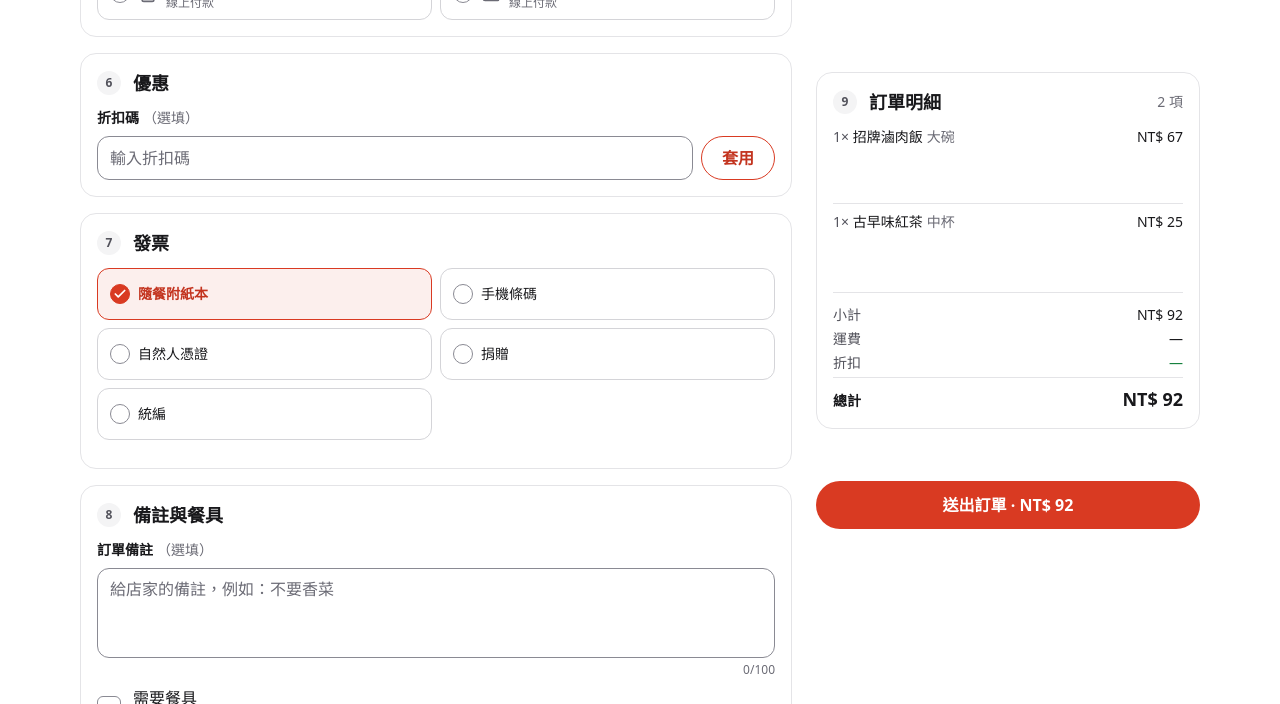
Scenario: 表單驗證（03 §8.3） › 發票統編檢查碼（UAT-12）
(page scrolled)
Click the radio button labelled "統編": (120, 414) [97,388,432,440]
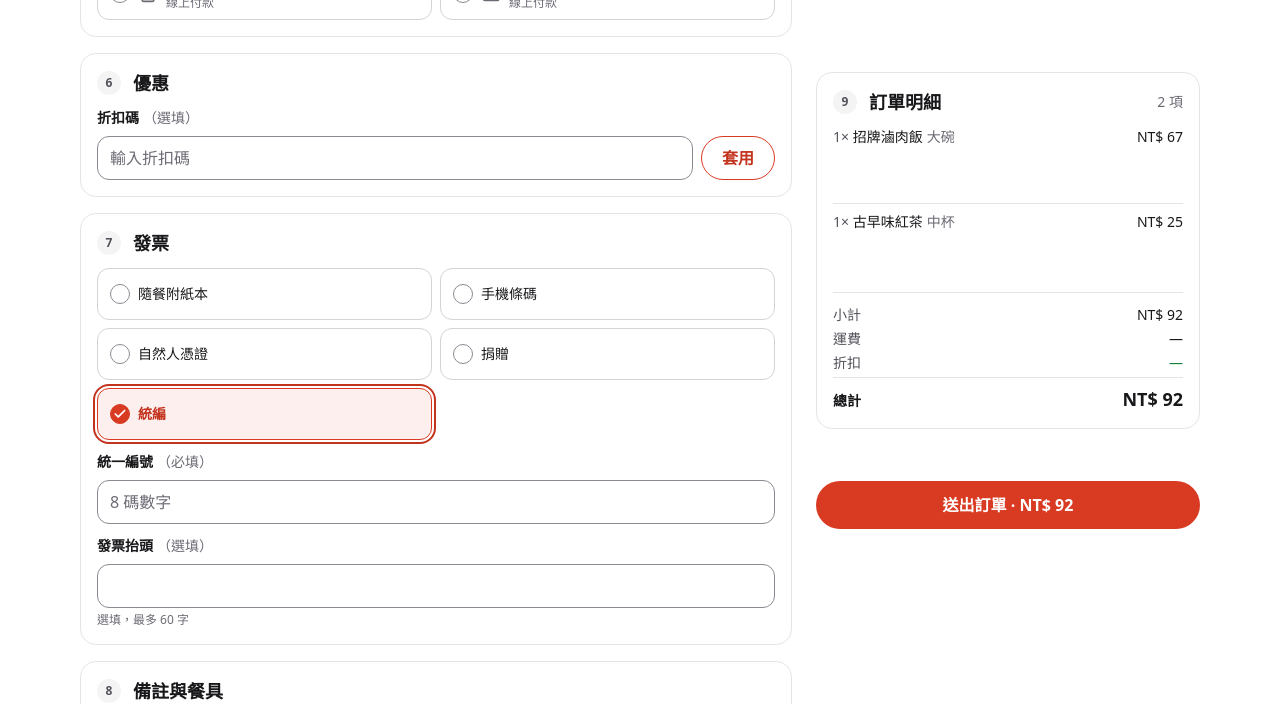
In the field labelled "統一編號（必填）": (436, 502) [97,480,775,524], type "04595258"
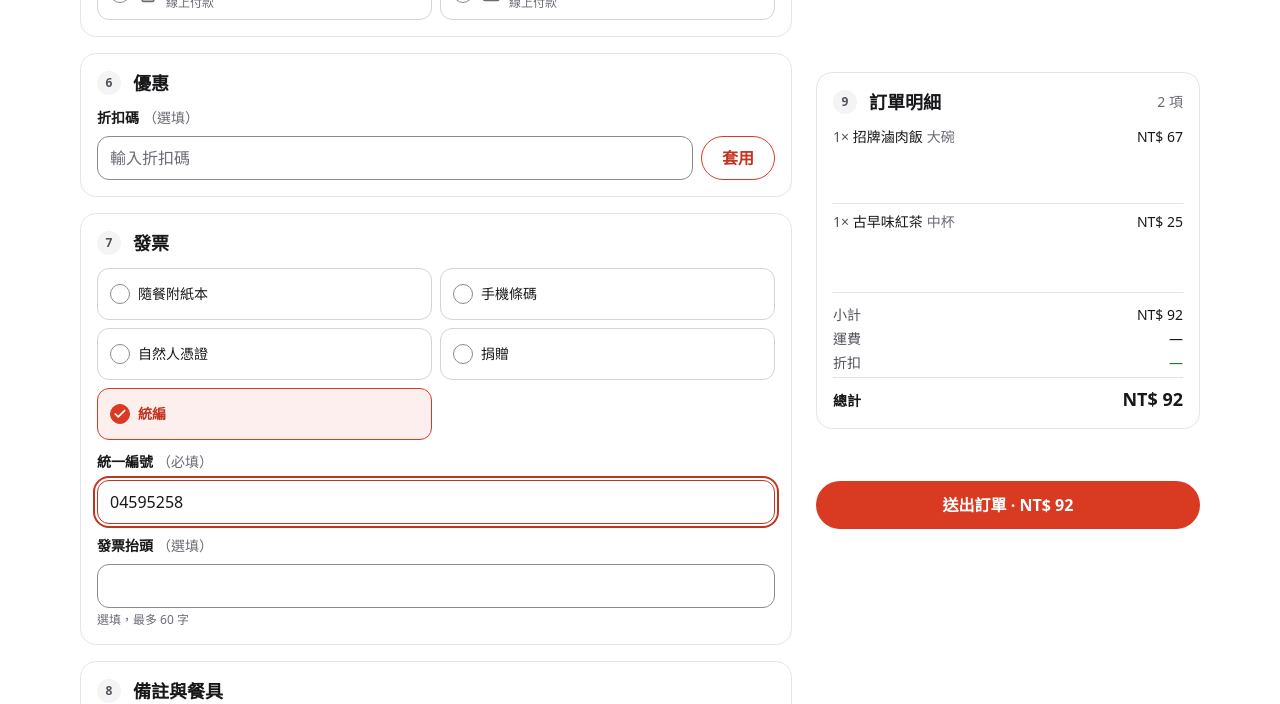
Press Tab
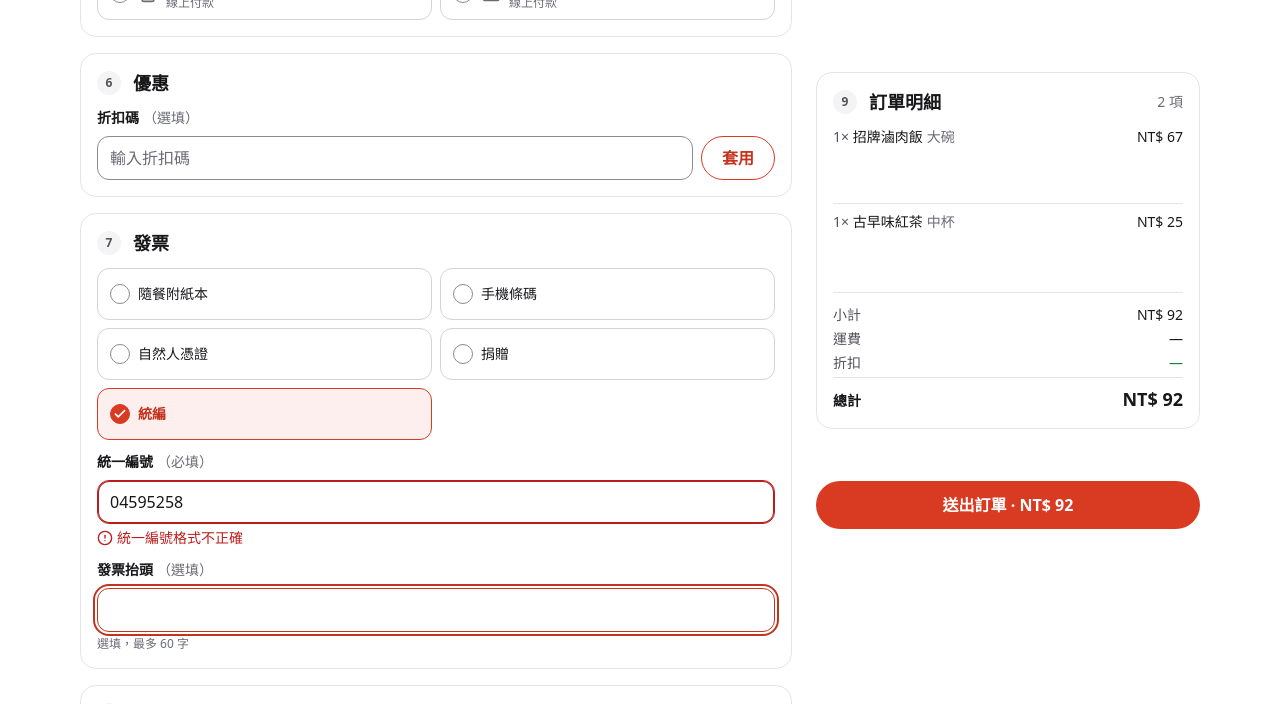
Check: the text "統一編號格式不正確" is shown, box [117,528,243,548]
Replace the text in the field labelled "統一編號（必填）" with "04595257": (436, 502) [97,480,775,524]
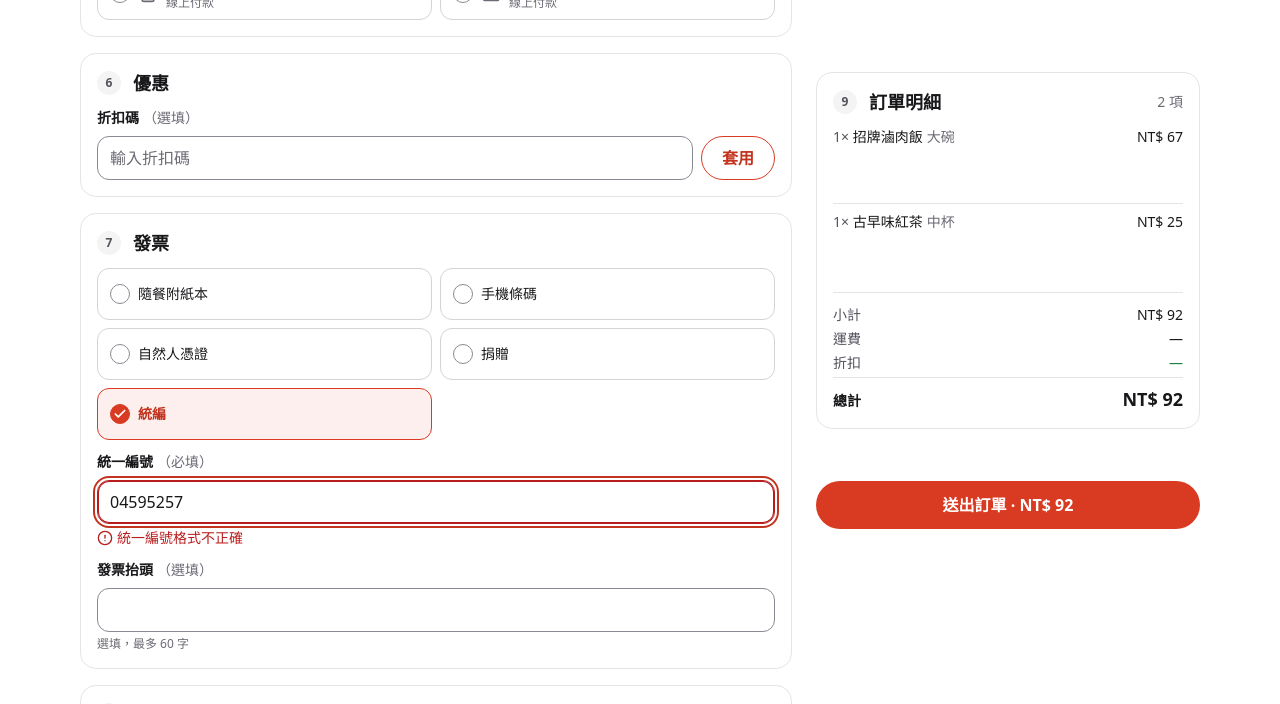
Press Tab
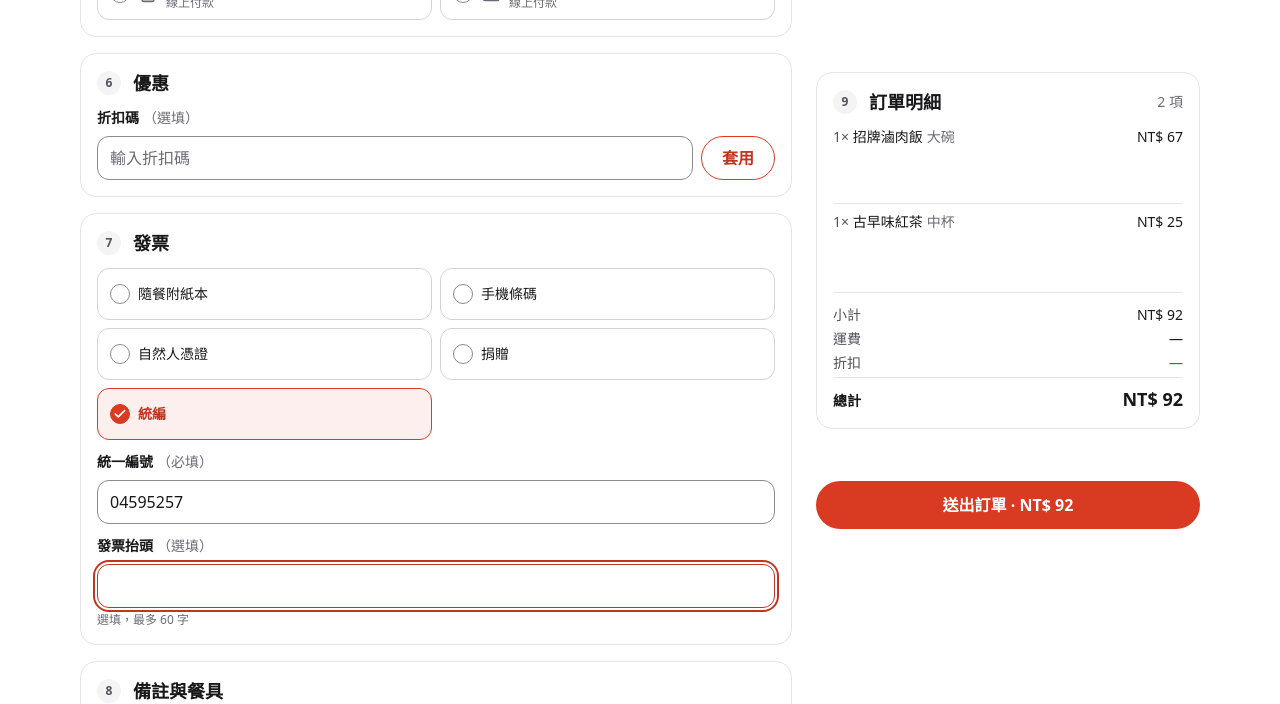
Check: the text "統一編號格式不正確" is gone
